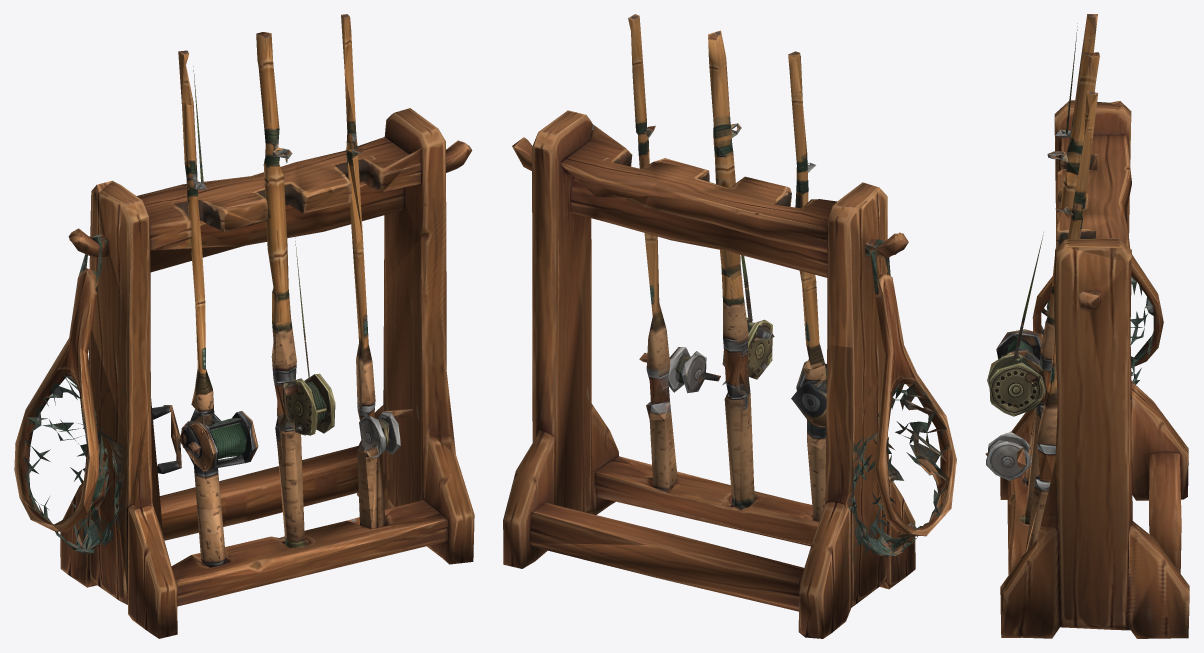
Rendered from Prop_RodRack.fbx.
3 renders of one model, left to right at view 1: azimuth 30°, elevation 25°; view 2: azimuth 150°, elevation 25°; view 3: azimuth 270°, elevation 25°, orthographic. The views are drawn at different scales.
Visible parts, largest first — view 1: Mesh_0; view 2: Mesh_0; view 3: Mesh_0.
Boxes of the visible parts, x1,y1,x2,y2 form: Mesh_0: [14, 14, 474, 638]; Mesh_0: [503, 14, 956, 638]; Mesh_0: [985, 14, 1189, 638].
Size of the model in its own units: 159 by 190 by 68.99.
1 material, 1 textured.
